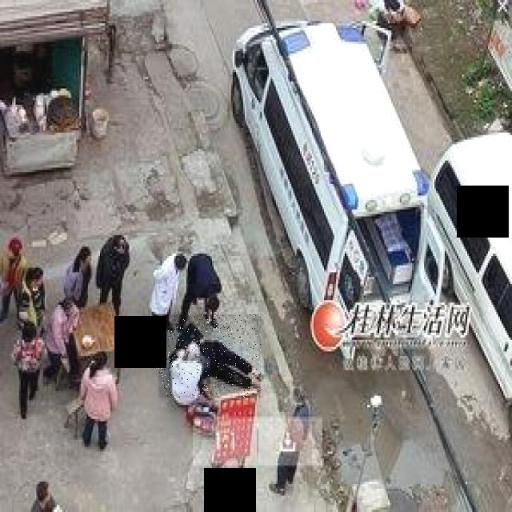Fall: (158, 315, 261, 398)
